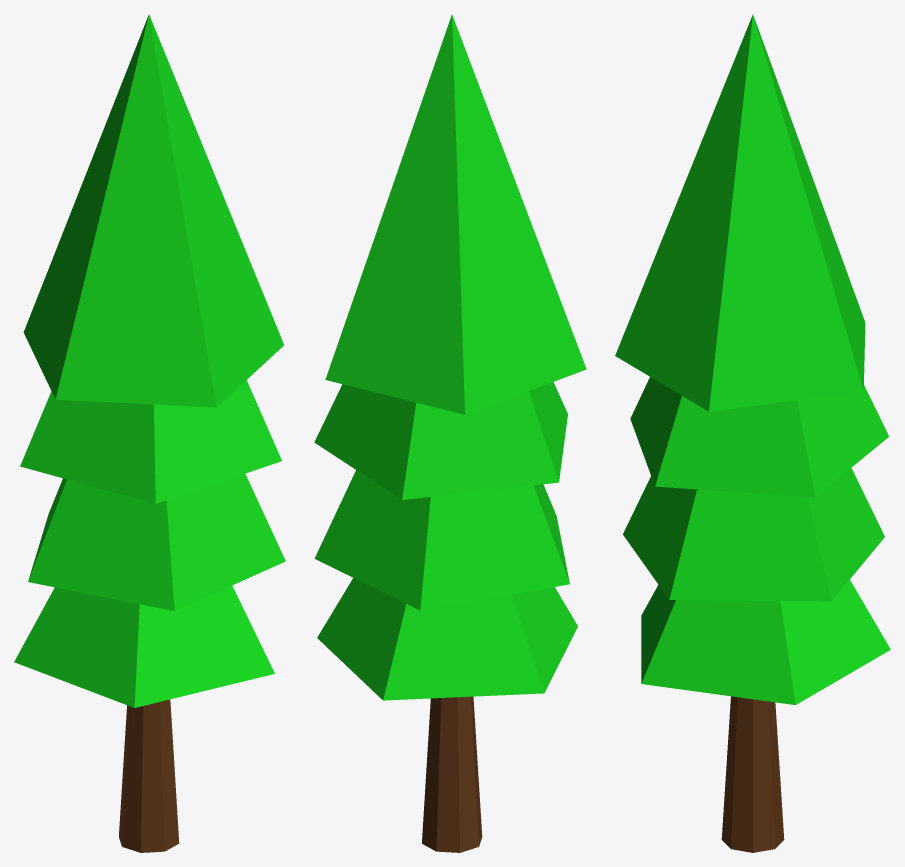
File: tree1.fbx
3 views of the same model, side by side, from view 1: azimuth 30°, elevation 25°; view 2: azimuth 150°, elevation 25°; view 3: azimuth 270°, elevation 25° (orthographic).
Visible parts, largest first — view 1: treeLog; view 2: treeLog; view 3: treeLog.
Boxes of the visible parts, x1,y1,x2,y2 form: treeLog: (14, 14, 285, 852); treeLog: (314, 14, 586, 852); treeLog: (615, 14, 890, 852).
Bounding box in the file's own units: 1.93 × 6.53 × 1.98.
